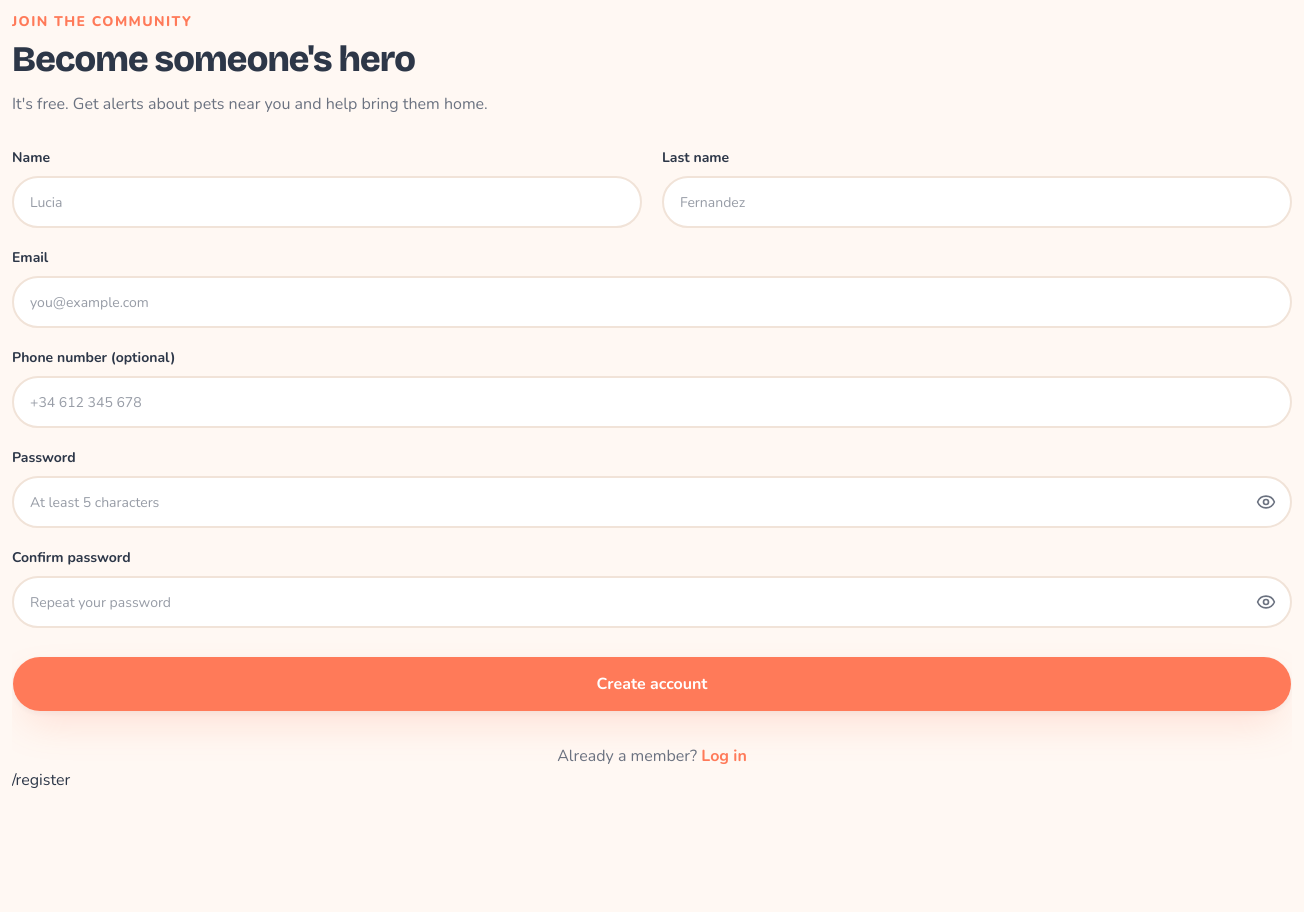
Scenario: RegisterForm › shows a safe accessible submission error
Type "Adriana" into the field labelled "Name" at (327, 202), box [12,176,642,228]
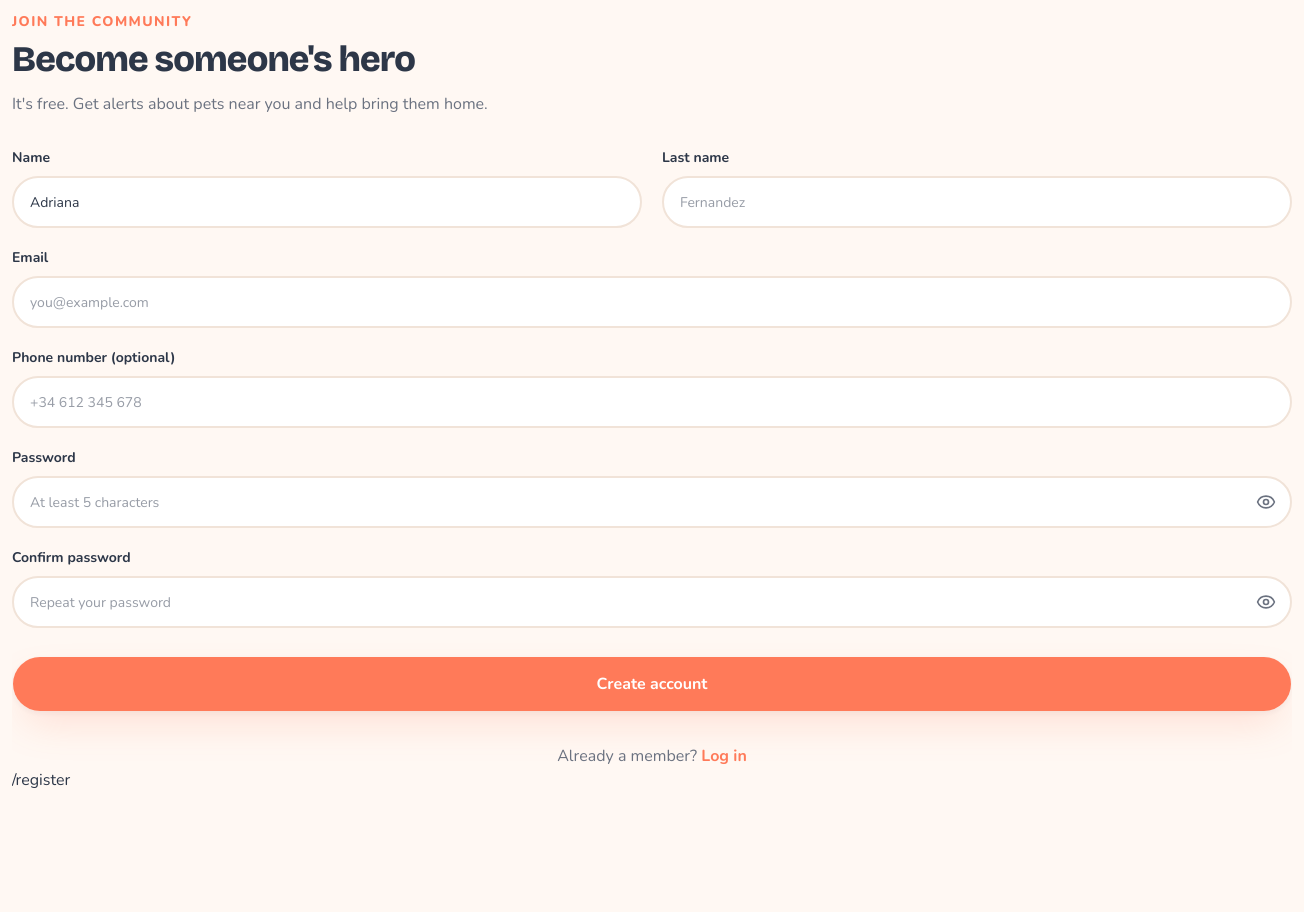
Type "Elias" into the field labelled "Last name" at (977, 202), box [662,176,1292,228]
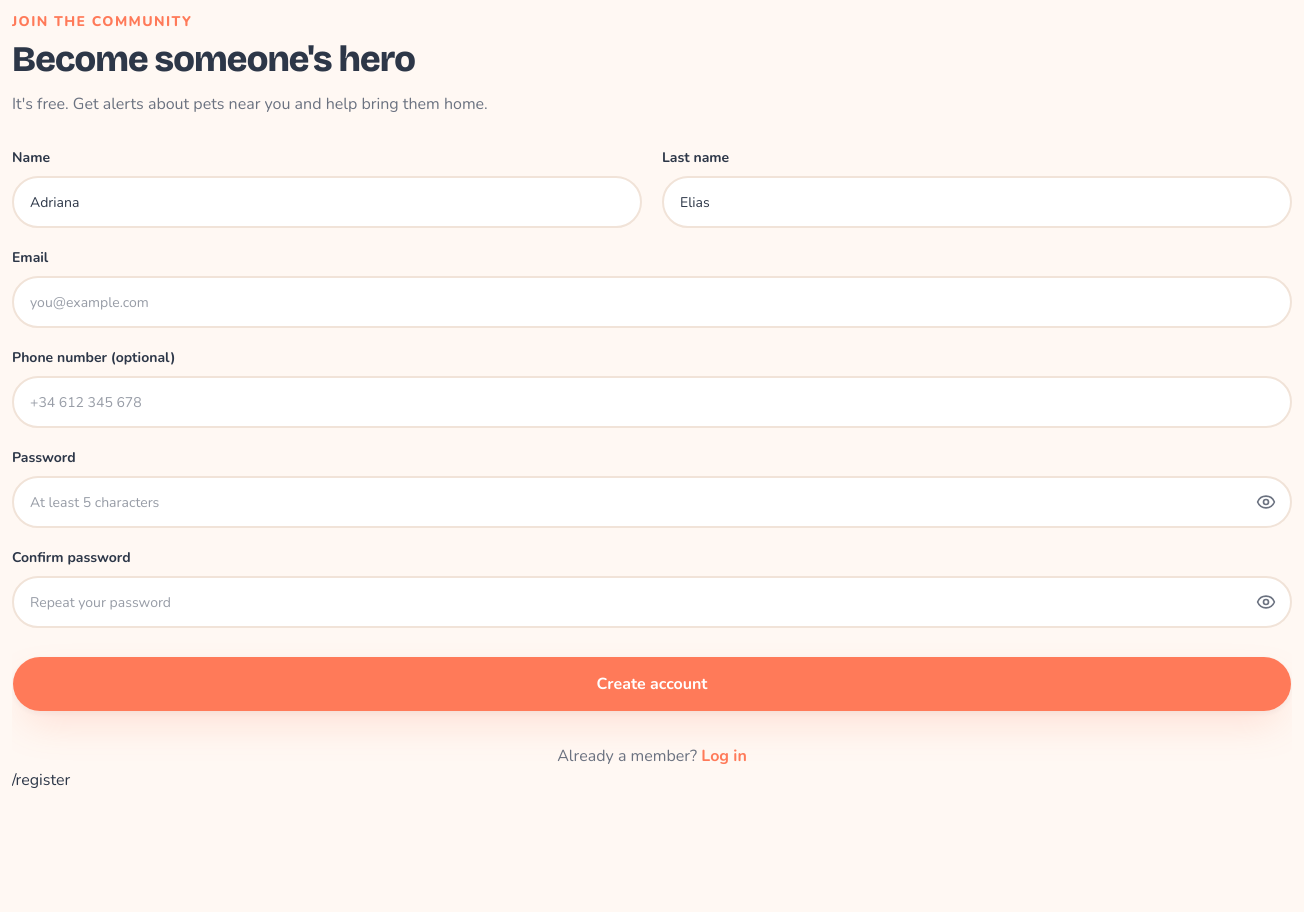
Type "adriana@example.com" into the field labelled "Email" at (652, 302), box [12,276,1292,328]
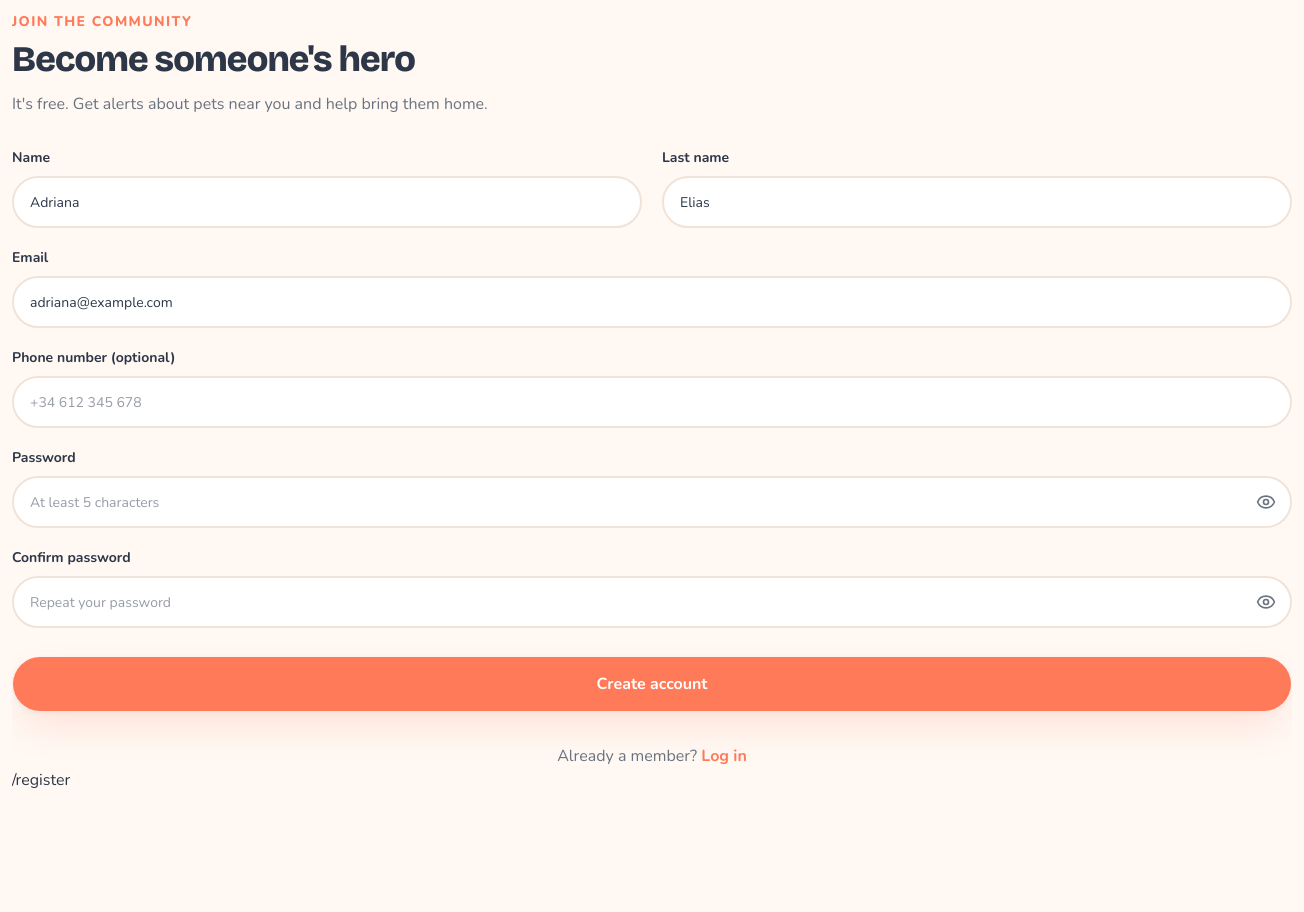
Type "Valid1" into the password field named "password" at (652, 502), box [12,476,1292,528]
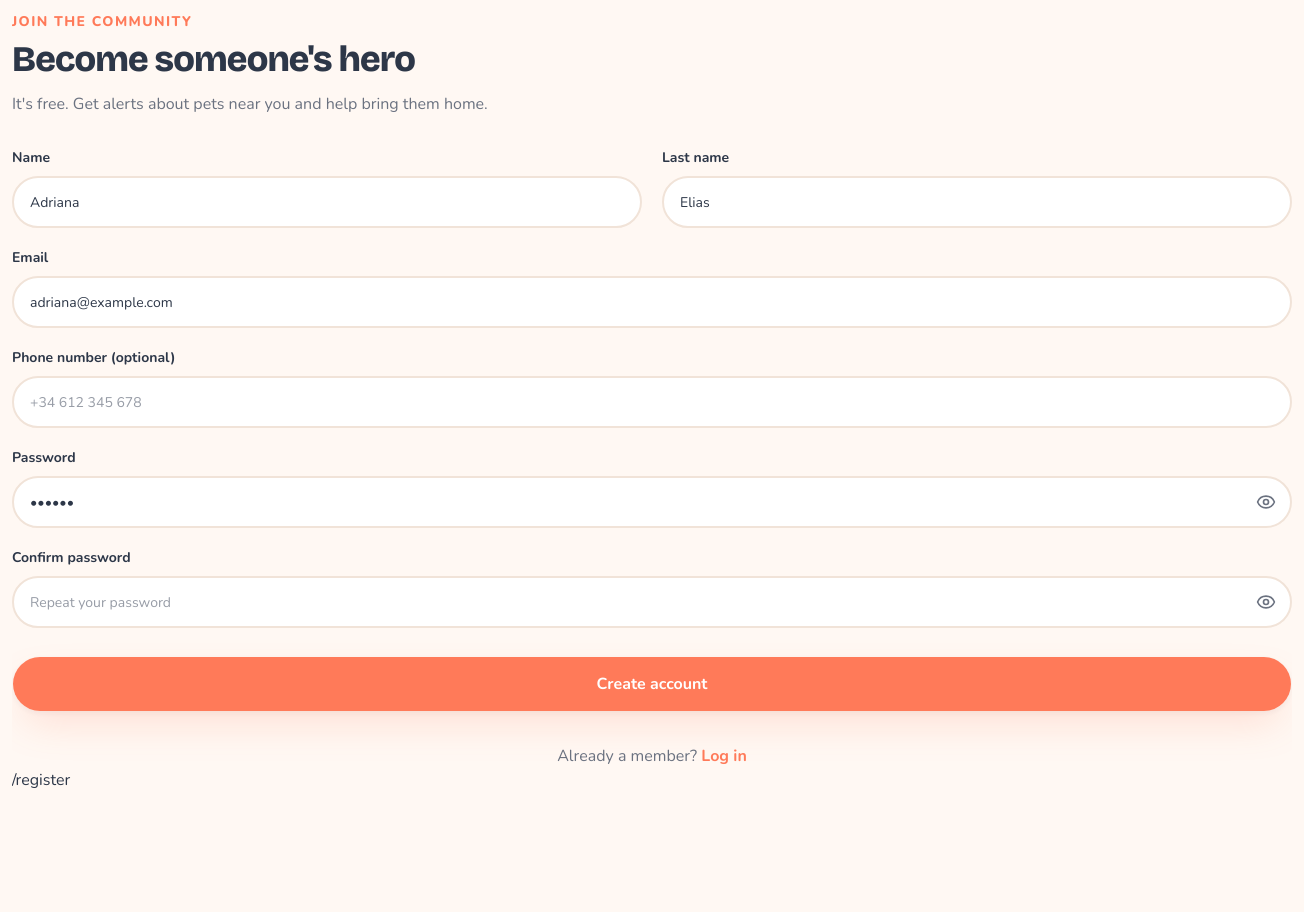
Type "Valid1" into the password field named "confirmPassword" at (652, 602), box [12,576,1292,628]
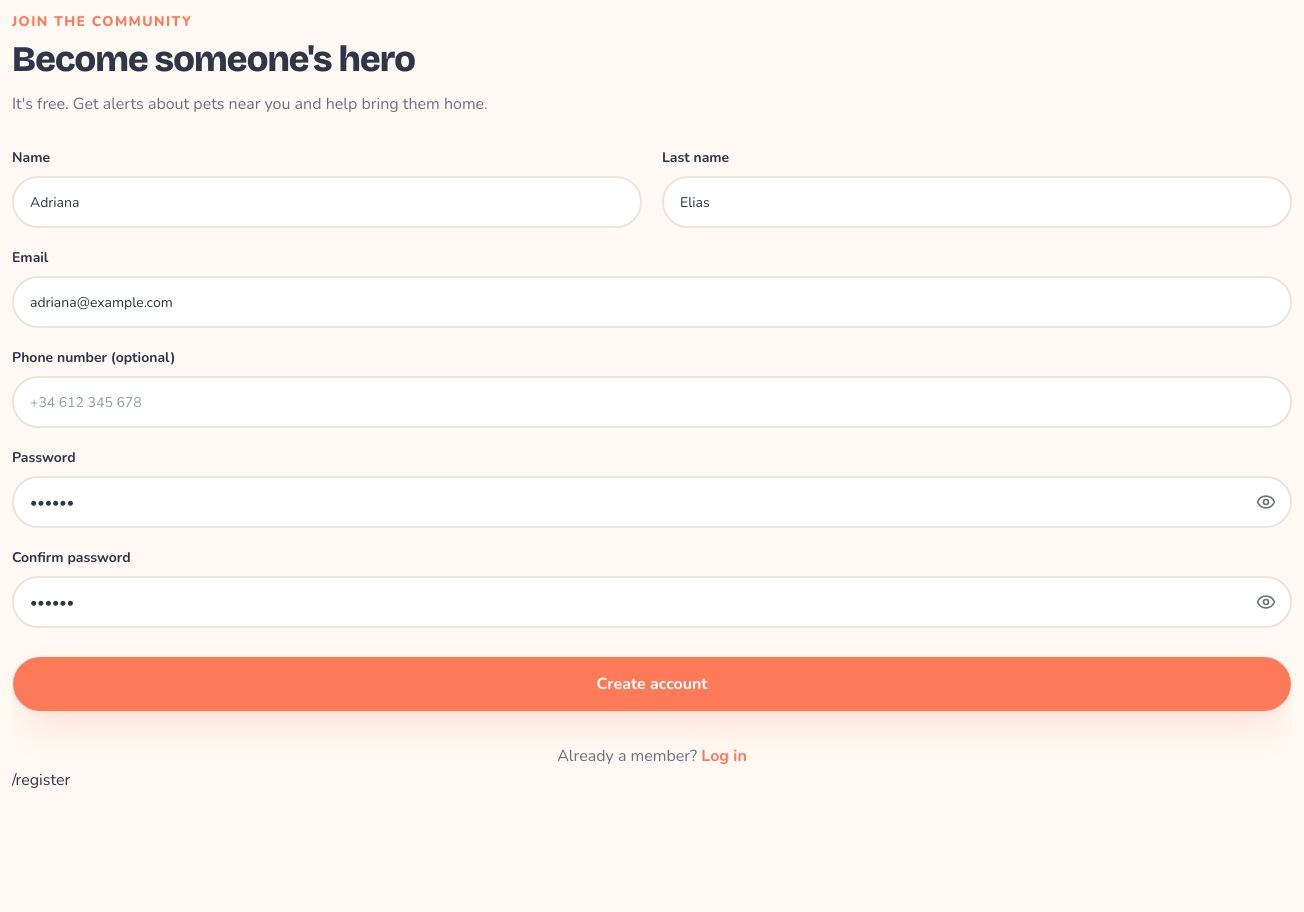
Submit the form
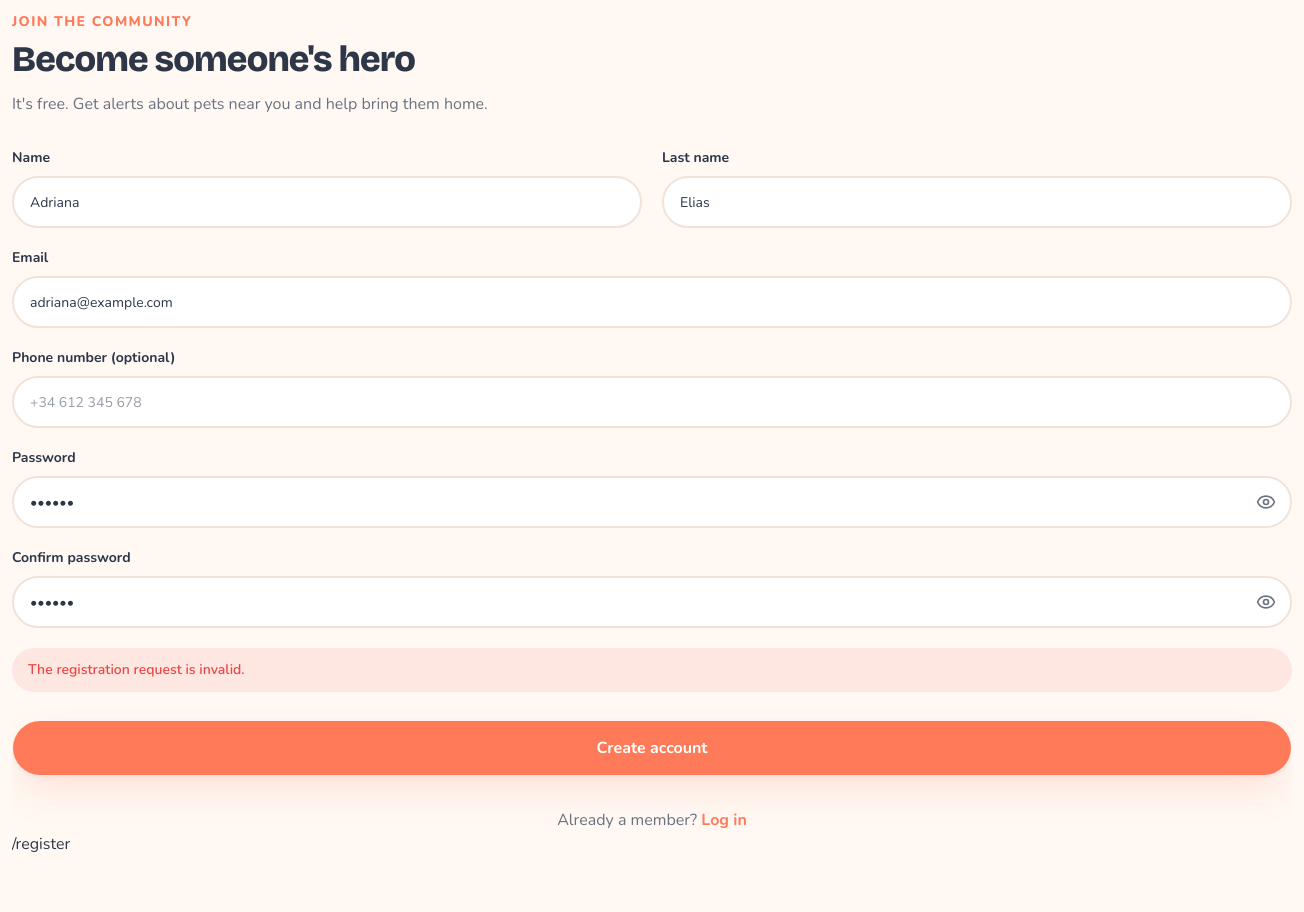
Expected: the button "Create account" is enabled, [12,720,1292,776]
Expected: the message reads "The registration request is invalid.", [28,660,245,679]
